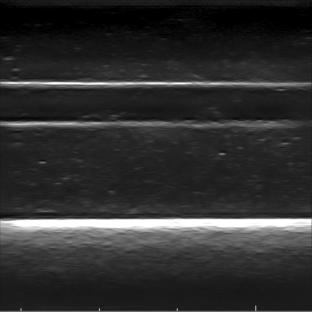vessel: (3, 79, 309, 129)
